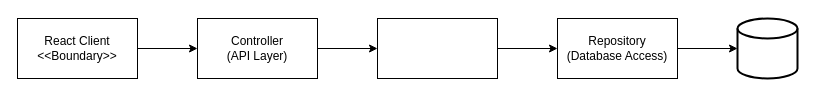
This 816x96 diagram has some shape labels left out. The shapes that lost their labels are listed below. From the top down, each one's centre as x and y in pixels, then its label:
At pixel 437 48: "Service (Business Logic)".
At pixel 767 48: "DB".
